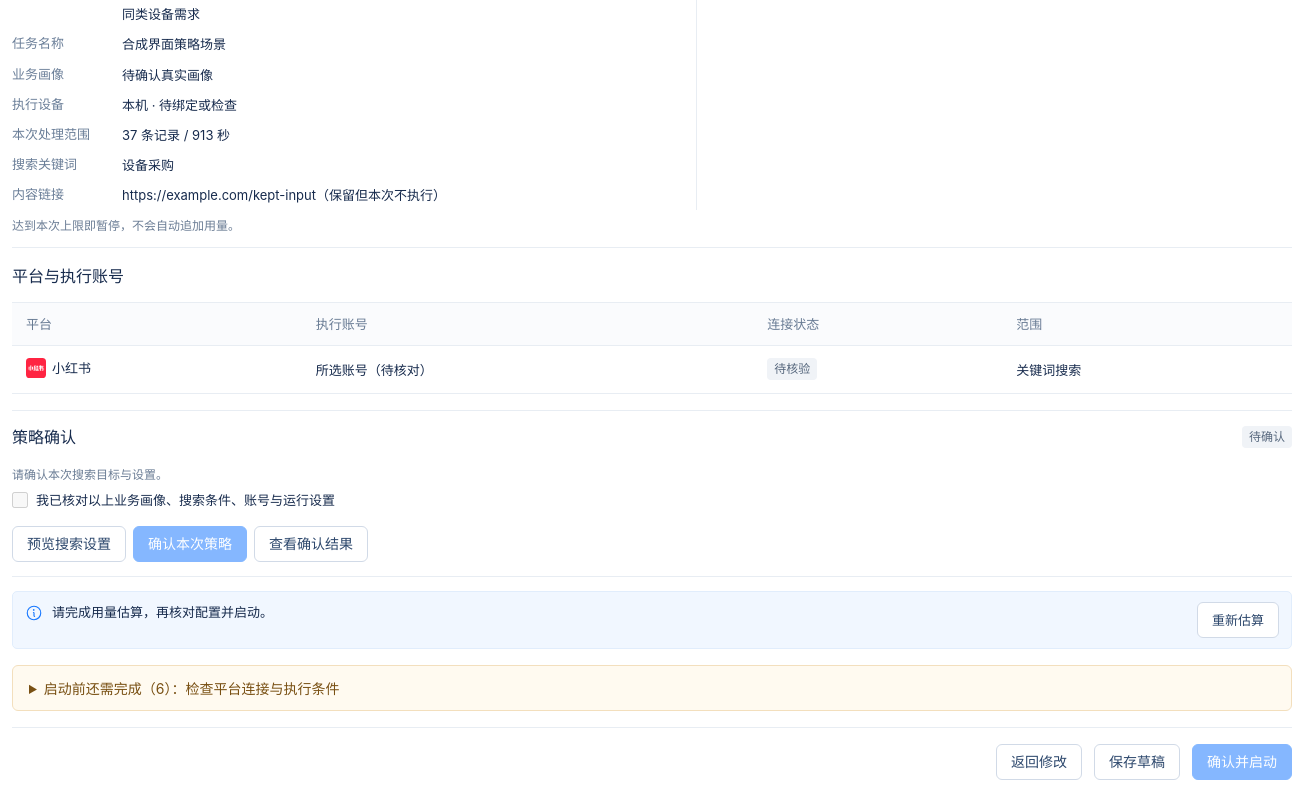
Test: TaskWizard strategy confirmation with the actual controller › prepares and confirms a similar-research origin while keeping research execution blocked
(page scrolled)
Click the button "预览搜索设置".
click(69, 544)  # box [12, 526, 126, 562]
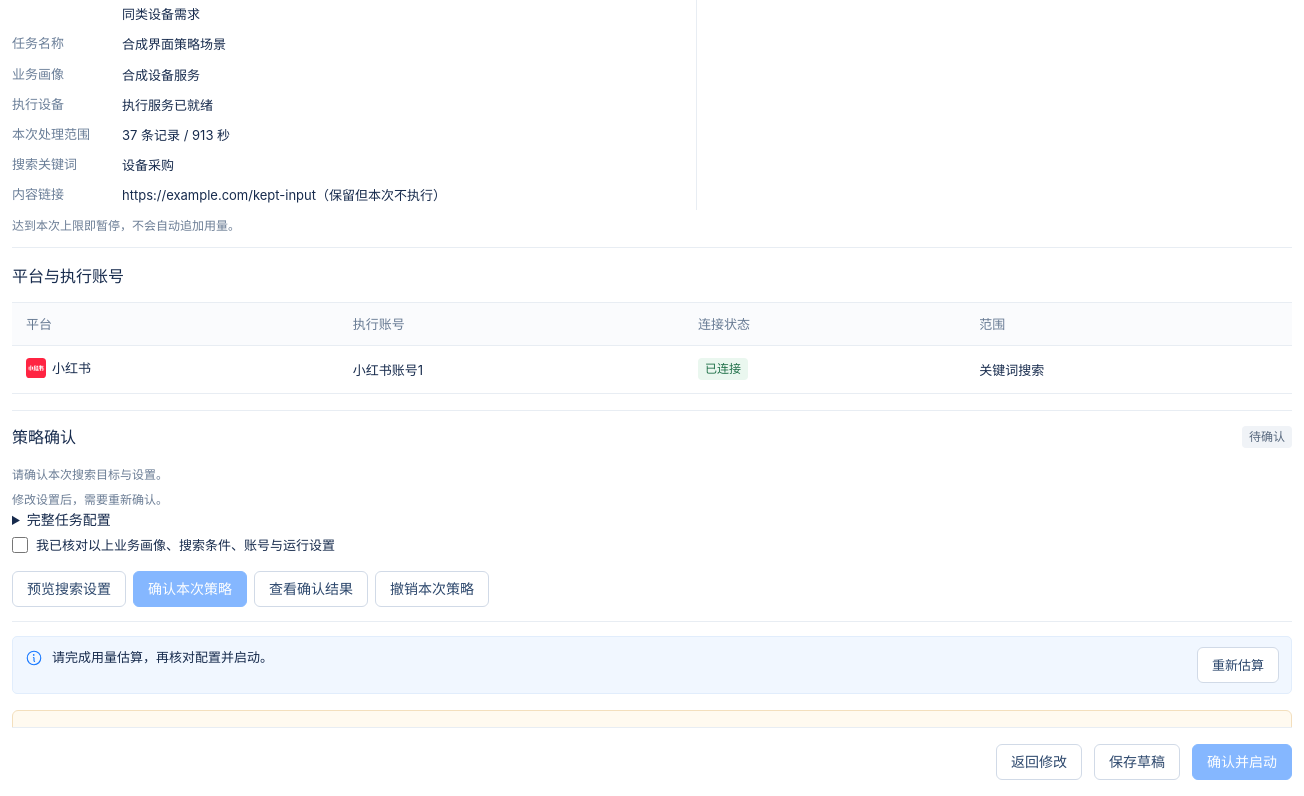
Check: the button "确认本次策略" is disabled, box [133, 571, 247, 607]
Check: the heading "完整任务配置" is shown, box [27, 510, 111, 528]
Click the checkbox labelled "我已核对以上业务画像、搜索条件、账号与运行设置".
click(20, 544)  # box [12, 536, 28, 552]
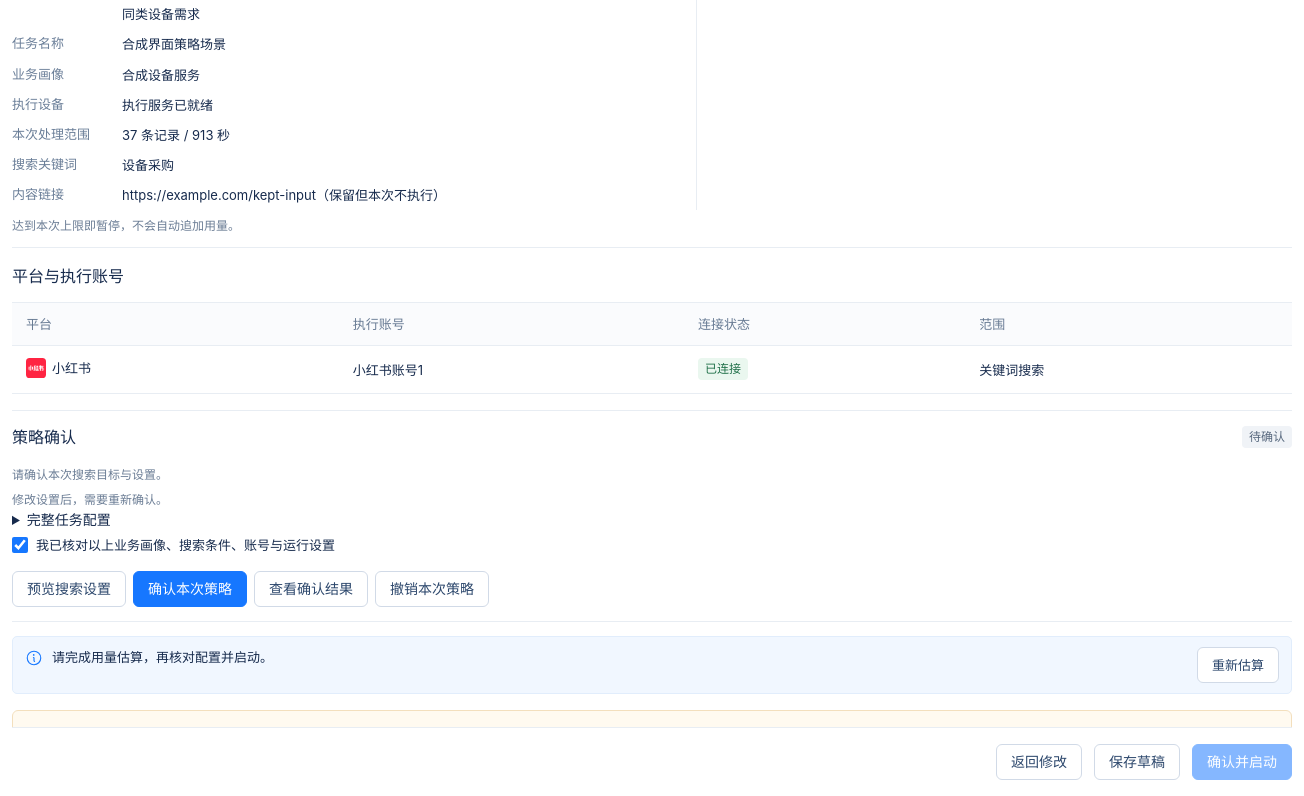
Check: the button "确认本次策略" is enabled
Click the button "确认本次策略".
click(190, 589)  # box [133, 571, 247, 607]
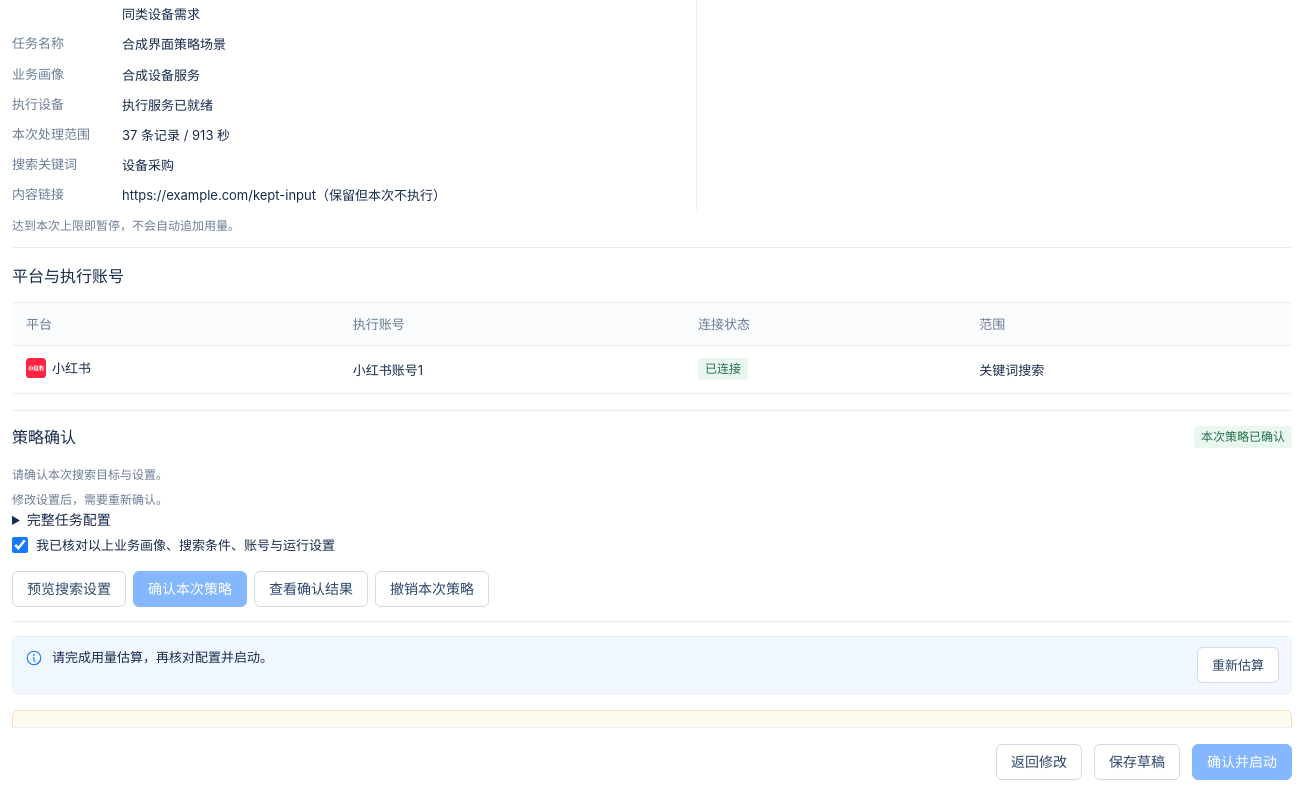
Check: the button "确认并启动" is disabled, box [1192, 744, 1292, 780]
Check: the text "本次策略已确认" is shown, box [1194, 426, 1292, 448]
